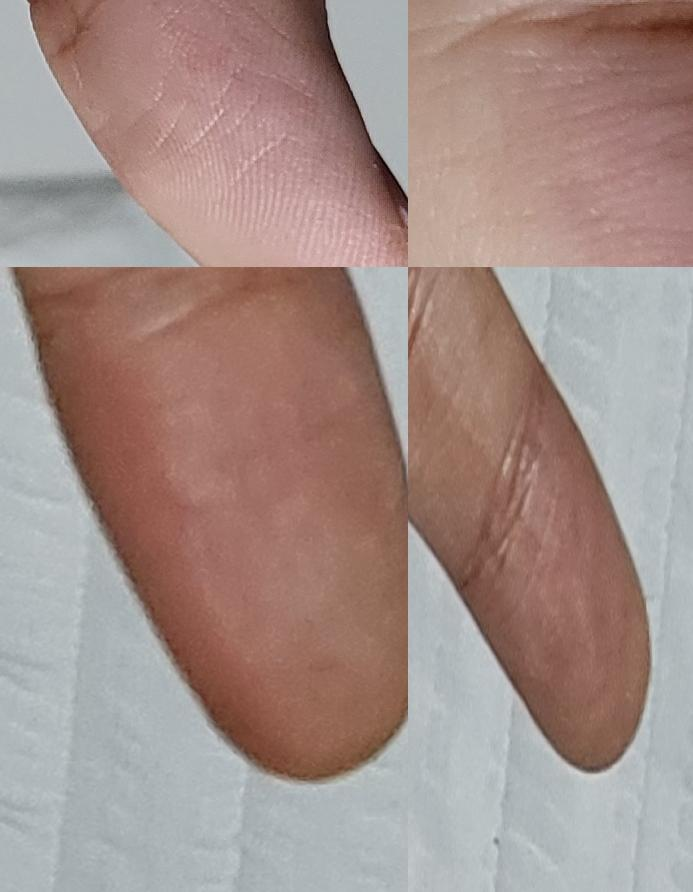Fingerprints: (35, 267, 408, 782), (28, 0, 408, 267), (470, 363, 653, 775), (434, 20, 693, 267)
